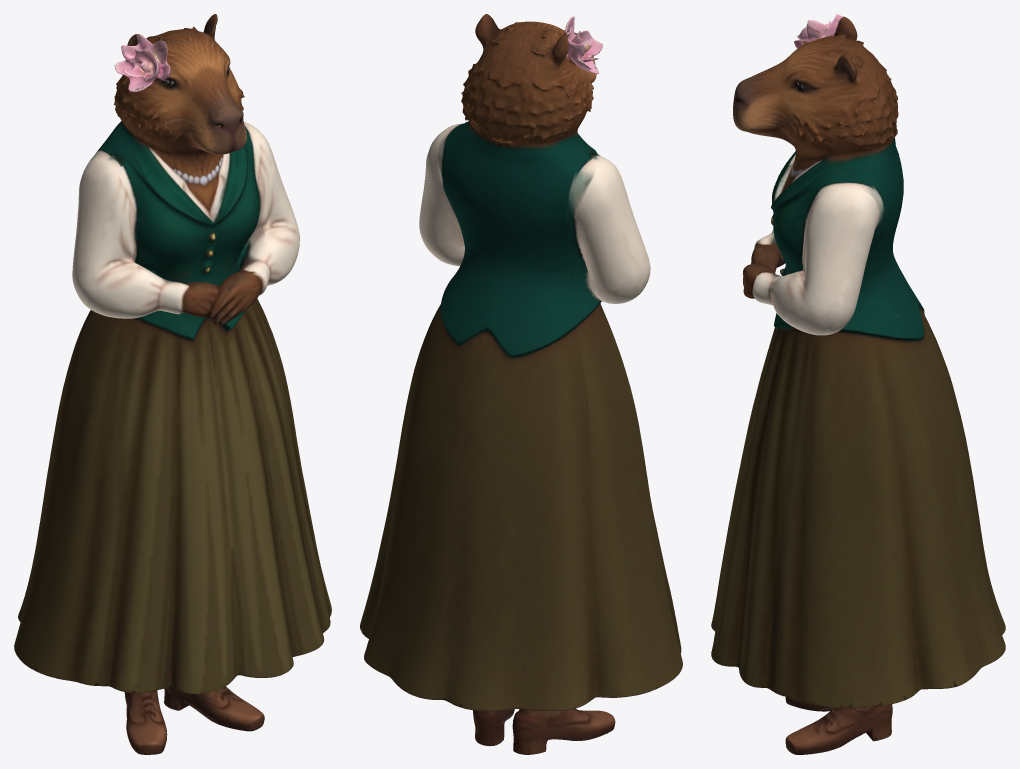
Rendered from iara_detailed.glb.
3 renders of one model, left to right at view 1: azimuth 30°, elevation 25°; view 2: azimuth 150°, elevation 25°; view 3: azimuth 270°, elevation 25°, orthographic. The views are drawn at different scales.
Visible parts, largest first — view 1: mesh_node; view 2: mesh_node; view 3: mesh_node.
Part boxes in pixels (box(x1,y1,x2,y2)): mesh_node: box(14, 14, 331, 754); mesh_node: box(360, 14, 682, 754); mesh_node: box(711, 14, 1005, 754).
Size of the model in its own units: 0.837 by 1.9 by 0.7341.
1 material, 1 textured.
